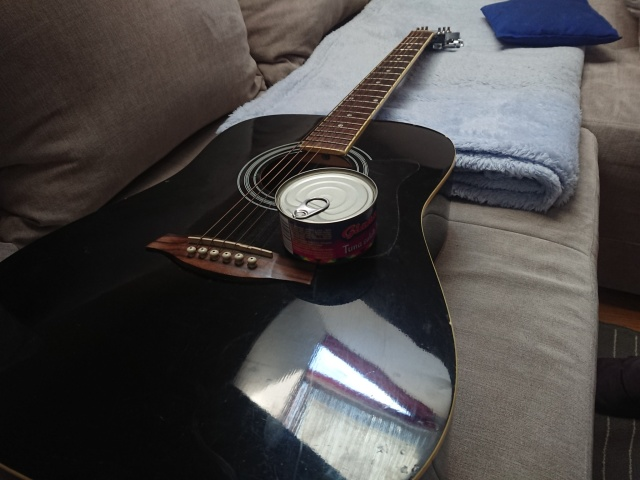Giana Tuna Salad Mexico 185g: (274, 165, 381, 267)
